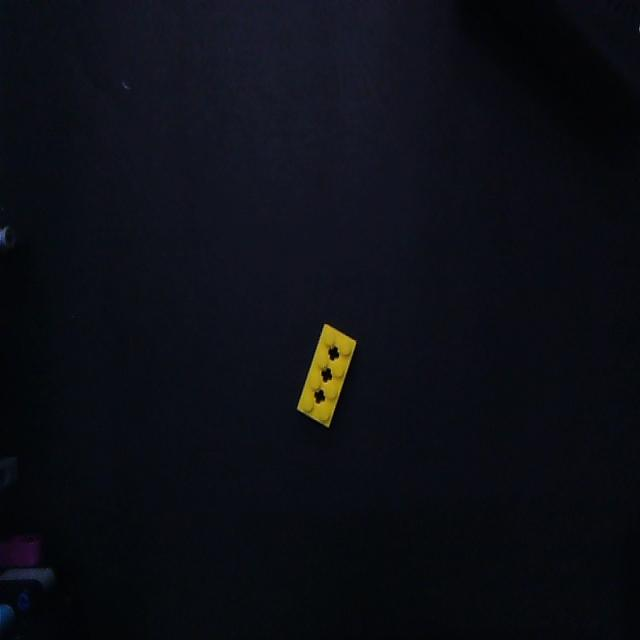lego_brick: (298, 324, 356, 427)
